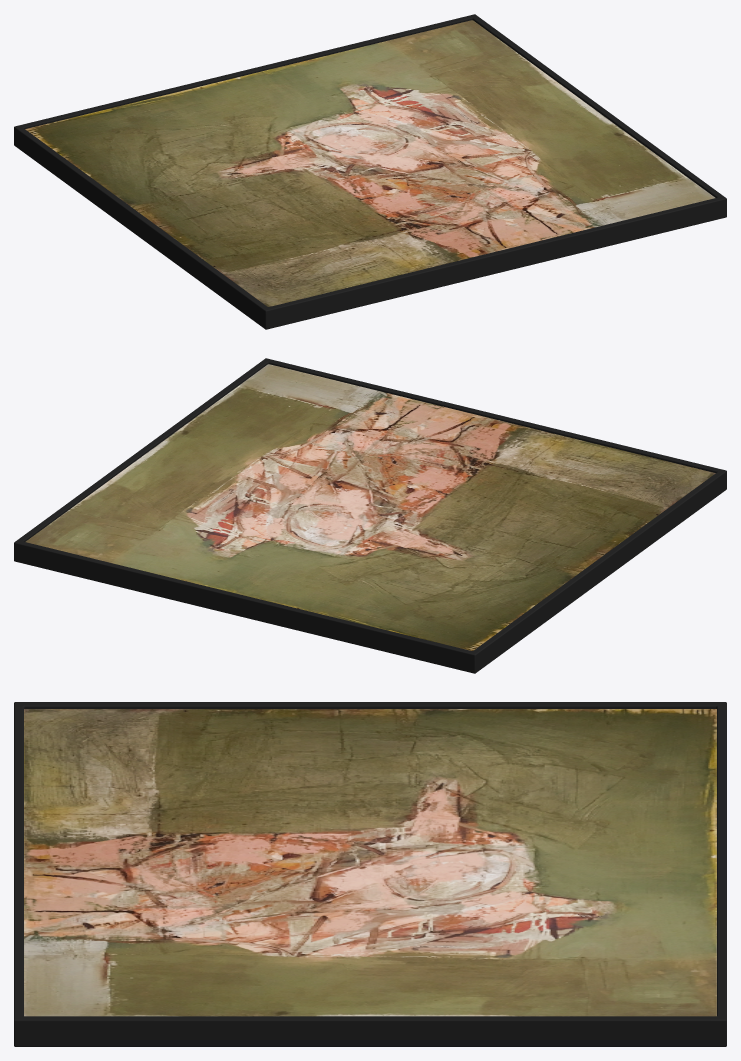
The model's file is Pig.obj.
The picture shows the model from 3 angles, top to bottom: view 1: azimuth 30°, elevation 25°; view 2: azimuth 150°, elevation 25°; view 3: azimuth 270°, elevation 25°; orthographic projection. The views are drawn at different scales.
Visible parts, largest first — view 1: Abstract-Painting_Monumental-Figure; view 2: Abstract-Painting_Monumental-Figure; view 3: Abstract-Painting_Monumental-Figure.
Part boxes in pixels (x1,y1,x2,y2): Abstract-Painting_Monumental-Figure: (14,14,726,329); Abstract-Painting_Monumental-Figure: (14,358,726,673); Abstract-Painting_Monumental-Figure: (14,702,726,1046).
Bounding box in the file's own units: 1.13 × 0.045 × 1.07.
Materials: 3 (1 with a texture image).
